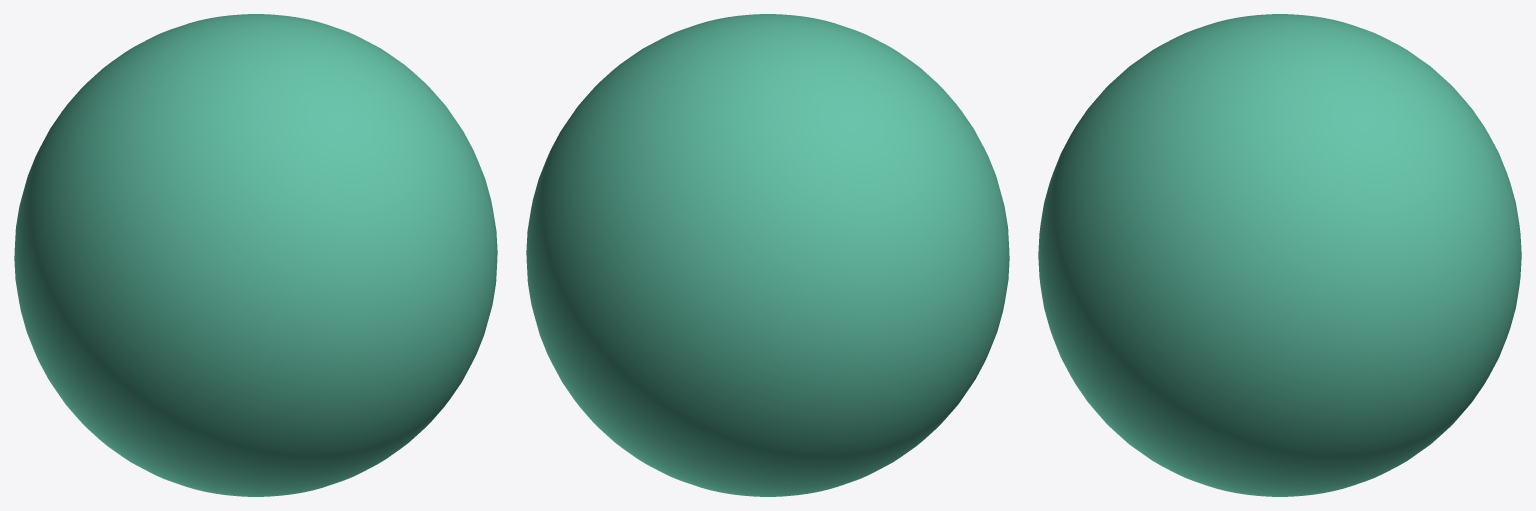
File: sun.fbx
3 renders of one model, left to right at view 1: azimuth 30°, elevation 25°; view 2: azimuth 150°, elevation 25°; view 3: azimuth 270°, elevation 25°, orthographic.
Parts seen in each view (by area): view 1: UnstableStarref; view 2: UnstableStarref; view 3: UnstableStarref.
Part boxes in pixels (bbox=[...]): UnstableStarref: bbox=[14, 14, 497, 496]; UnstableStarref: bbox=[526, 14, 1009, 496]; UnstableStarref: bbox=[1038, 14, 1521, 496].
Size of the model in its own units: 204 by 204 by 204.
